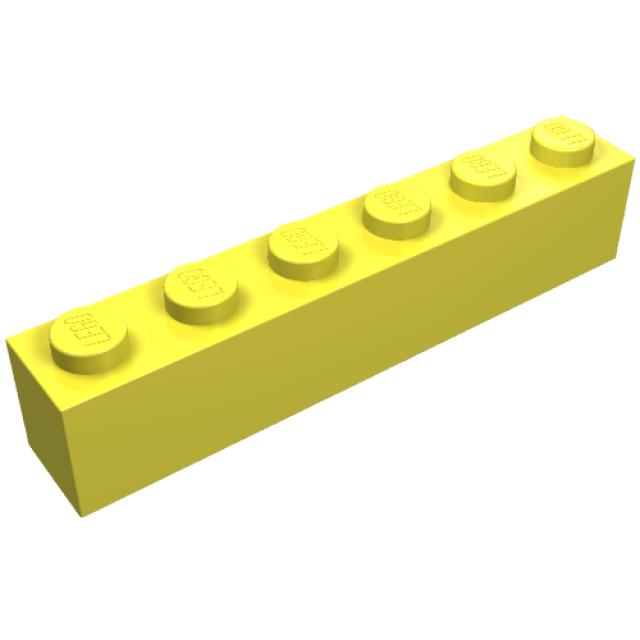Yellow_Large: (6, 116, 637, 520)
